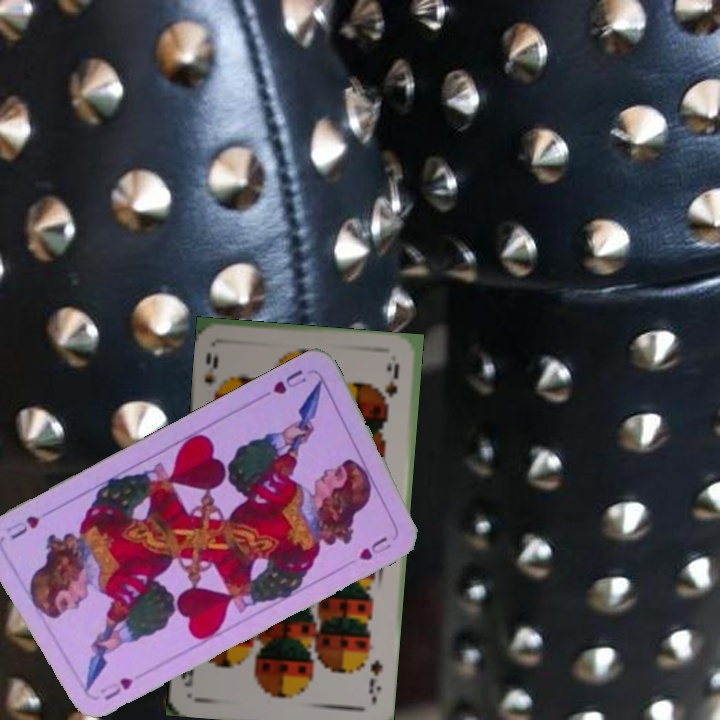HU: (269, 366, 309, 397), (100, 673, 136, 703)
S9: (199, 348, 221, 390), (365, 656, 385, 696)
